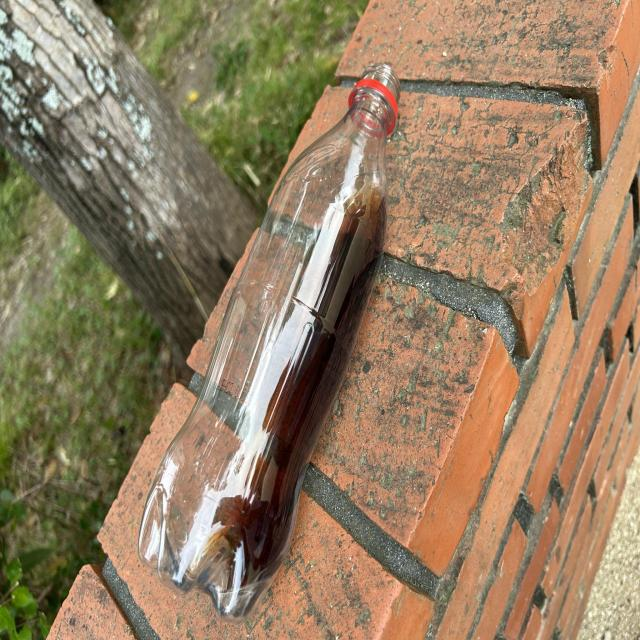low: (138, 64, 400, 623)
